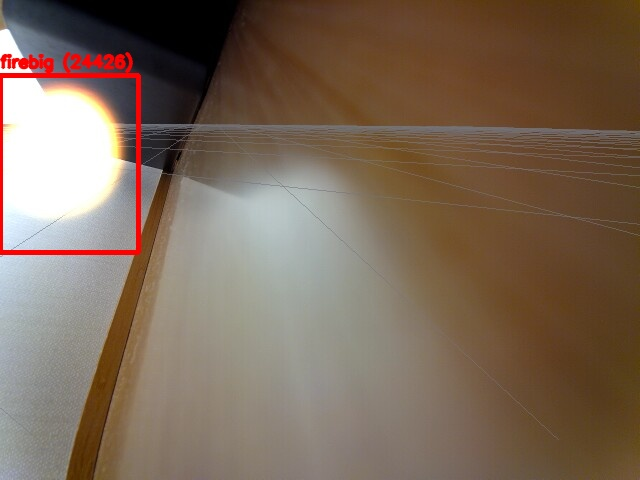firebig: (0, 75, 138, 252)
